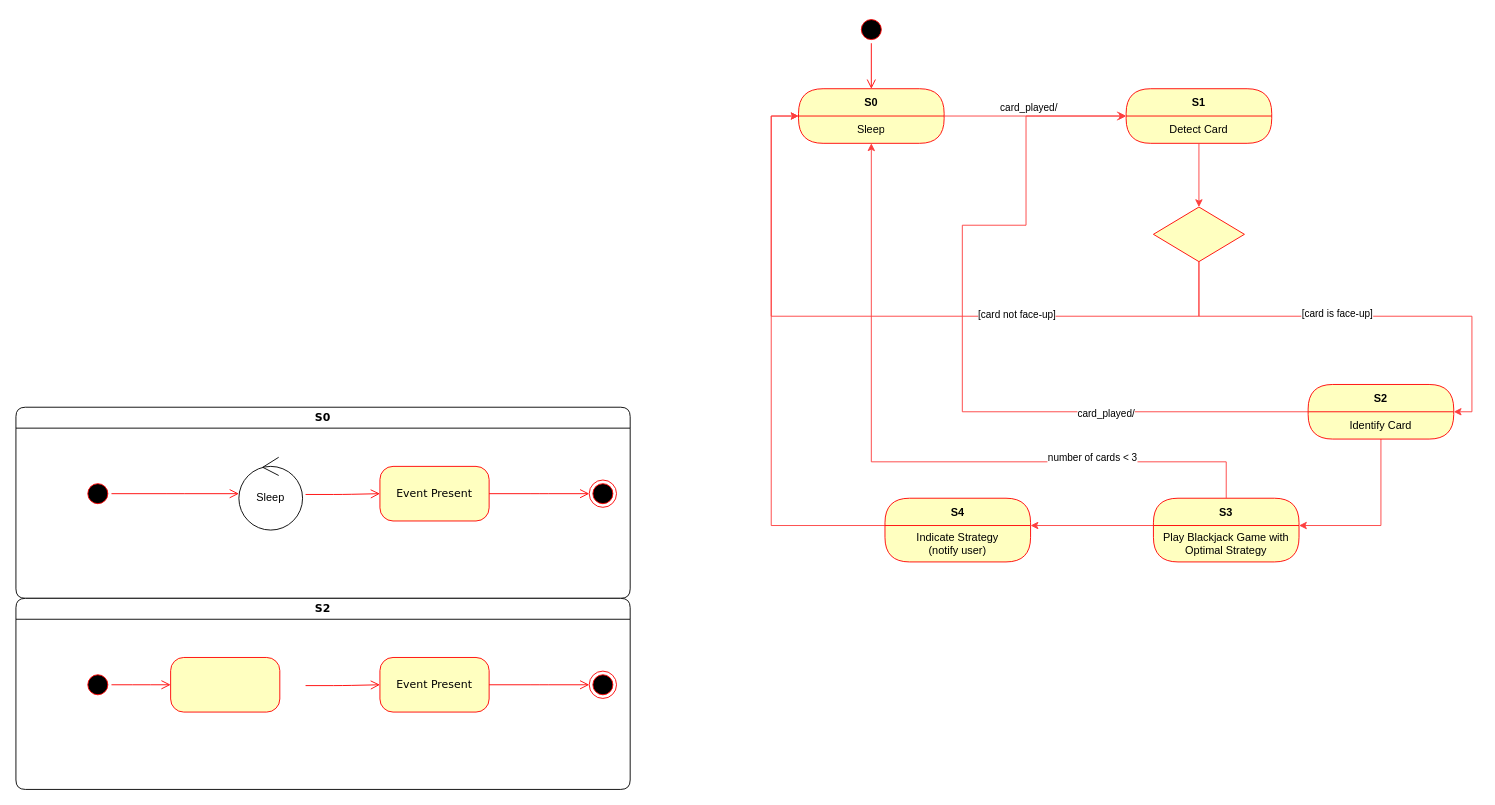
This 1495x805 diagram has some shape labels left out. The centre of each missing label's shape, as x and y in pixels:
"Card Faceup" goes at [1198,234].
"Use OpenCV" goes at [225,684].
